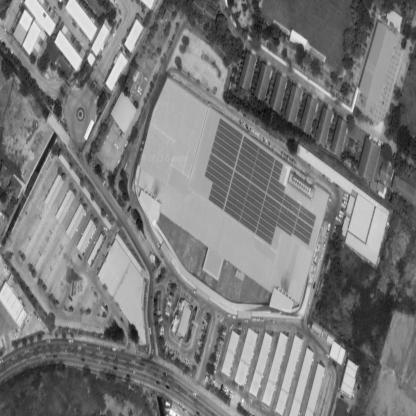solar-pv-panel: (205, 118, 317, 246)
